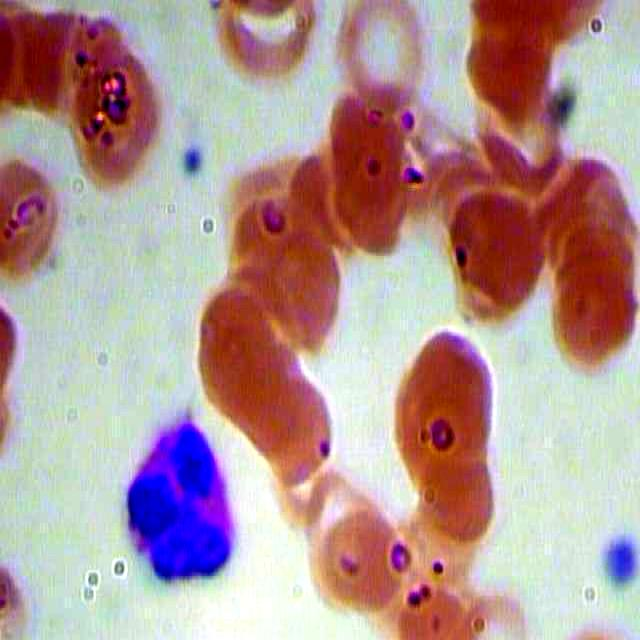Platelets: (598, 532, 639, 587), (173, 136, 209, 184)
RBC: (65, 49, 168, 199), (442, 194, 546, 338), (301, 488, 402, 623), (400, 329, 504, 460), (400, 408, 504, 539), (536, 252, 640, 383), (252, 221, 356, 352), (328, 123, 429, 257), (332, 1, 437, 116), (452, 10, 556, 126), (1, 155, 79, 288)
WBC: (92, 414, 257, 598)
